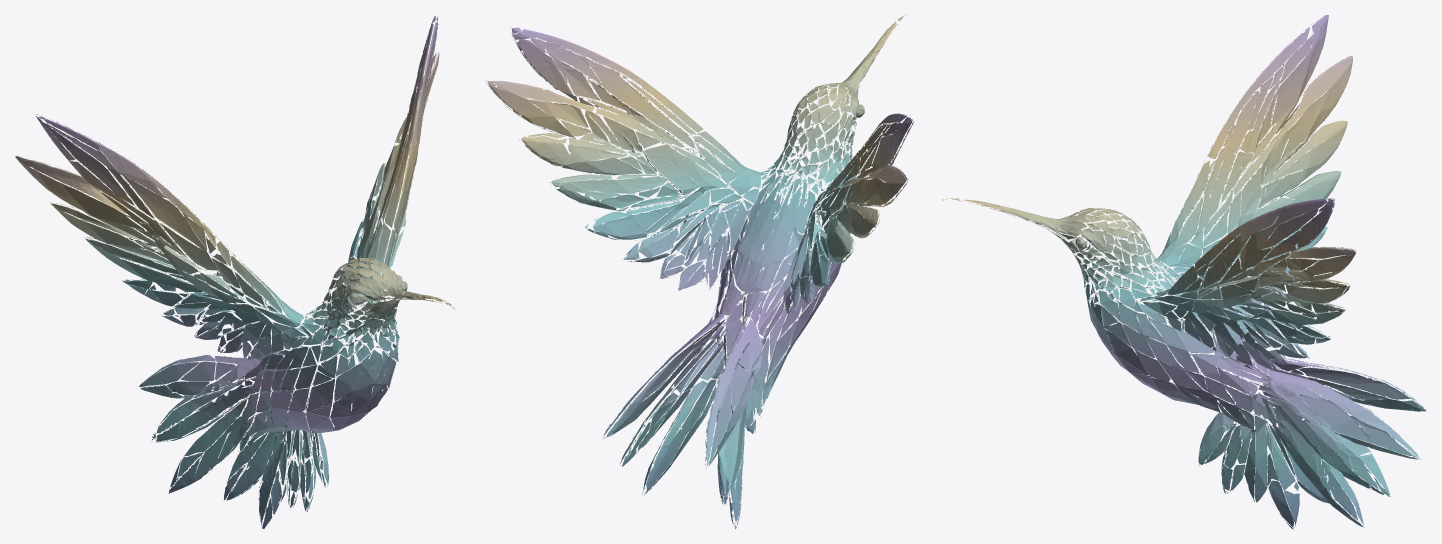
The model's file is hummingbird-desktop.glb.
3 views of the same model, side by side, from view 1: azimuth 30°, elevation 25°; view 2: azimuth 150°, elevation 25°; view 3: azimuth 270°, elevation 25° (orthographic). The views are drawn at different scales.
Visible parts, largest first — view 1: geometry_0; view 2: geometry_0; view 3: geometry_0.
Boxes of the visible parts, x1,y1,x2,y2 form: geometry_0: (15, 16, 454, 528); geometry_0: (485, 14, 913, 528); geometry_0: (942, 15, 1425, 529).
Bounding box in the file's own units: 1.8 × 1.82 × 1.9.
